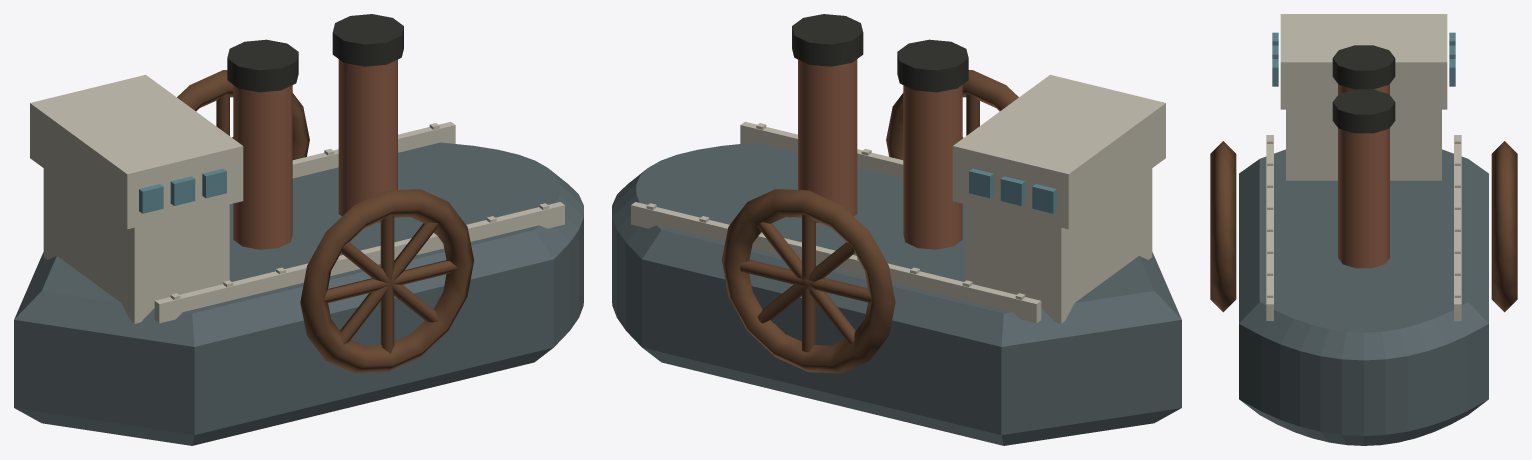
The model's file is custom-vehicle-buharli.glb.
3 views of the same model, side by side, from view 1: azimuth 30°, elevation 25°; view 2: azimuth 150°, elevation 25°; view 3: azimuth 270°, elevation 25° (orthographic). The views are drawn at different scales.
Parts seen in each view (by area): view 1: custom-vehicle-buharli; view 2: custom-vehicle-buharli; view 3: custom-vehicle-buharli.
Part boxes in pixels (x1,y1,x2,y2): custom-vehicle-buharli: (14, 14, 583, 445); custom-vehicle-buharli: (612, 14, 1181, 445); custom-vehicle-buharli: (1210, 14, 1517, 445).
Size of the model in its own units: 1 by 0.5414 by 0.5604.
